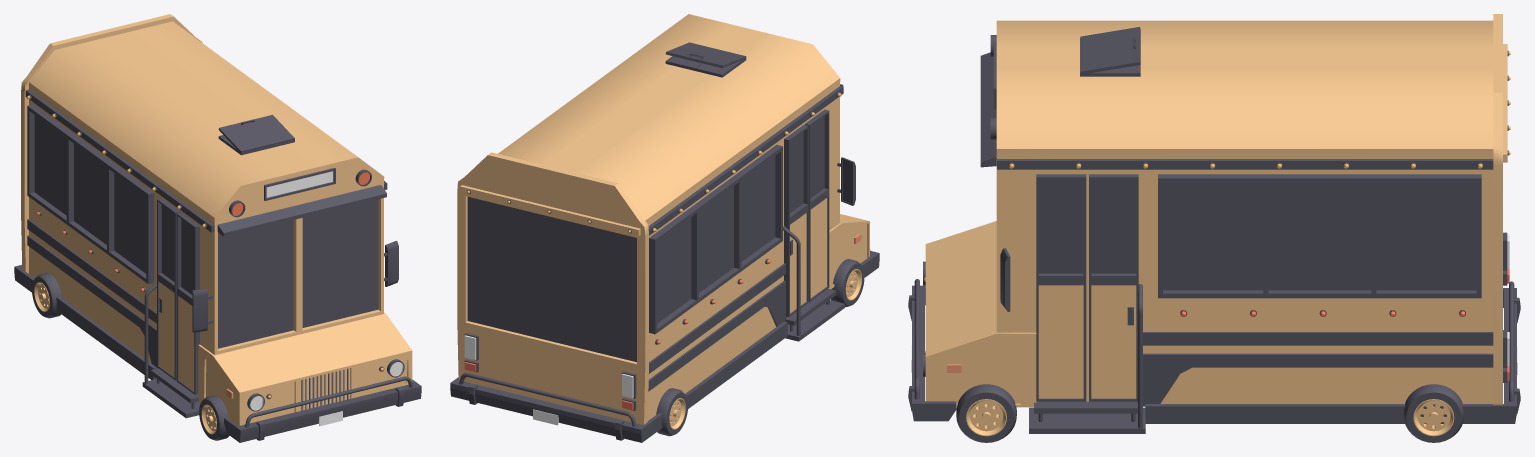
Rendered from car.glb.
The picture shows the model from 3 angles, left to right: view 1: azimuth 30°, elevation 25°; view 2: azimuth 150°, elevation 25°; view 3: azimuth 270°, elevation 25°; orthographic projection. The views are drawn at different scales.
Parts seen in each view (by area): view 1: Cube.087_0, Cube.091_4, Cube.088_1; view 2: Cube.087_0, Cube.091_4; view 3: Cube.087_0, Cube.091_4.
Part boxes in pixels (left/top/right/bottom): Cube.087_0: left=21, top=14, right=421, bottom=442; Cube.091_4: left=14, top=265, right=156, bottom=379; Cube.088_1: left=301, top=368, right=348, bottom=410; Cube.087_0: left=457, top=14, right=879, bottom=436; Cube.091_4: left=450, top=321, right=787, bottom=442; Cube.087_0: left=908, top=14, right=1509, bottom=442; Cube.091_4: left=1145, top=281, right=1520, bottom=423.
Bounding box in the file's own units: 3.01 × 3.58 × 5.81.
Materials: 1 (1 with a texture image).
